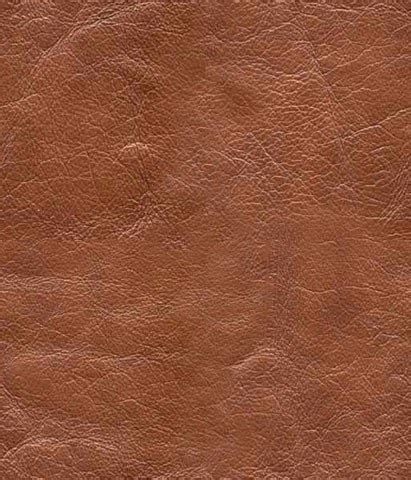cuero: (2, 2, 411, 480)
